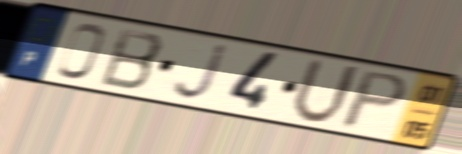0: (56, 22, 109, 81)
4: (223, 48, 279, 117)
B: (96, 25, 166, 93)
J: (171, 42, 232, 104)
P: (336, 68, 412, 132)
U: (287, 55, 363, 127)
